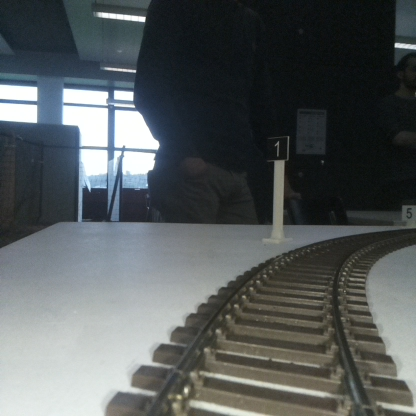black-info-1: (268, 136, 286, 242)
